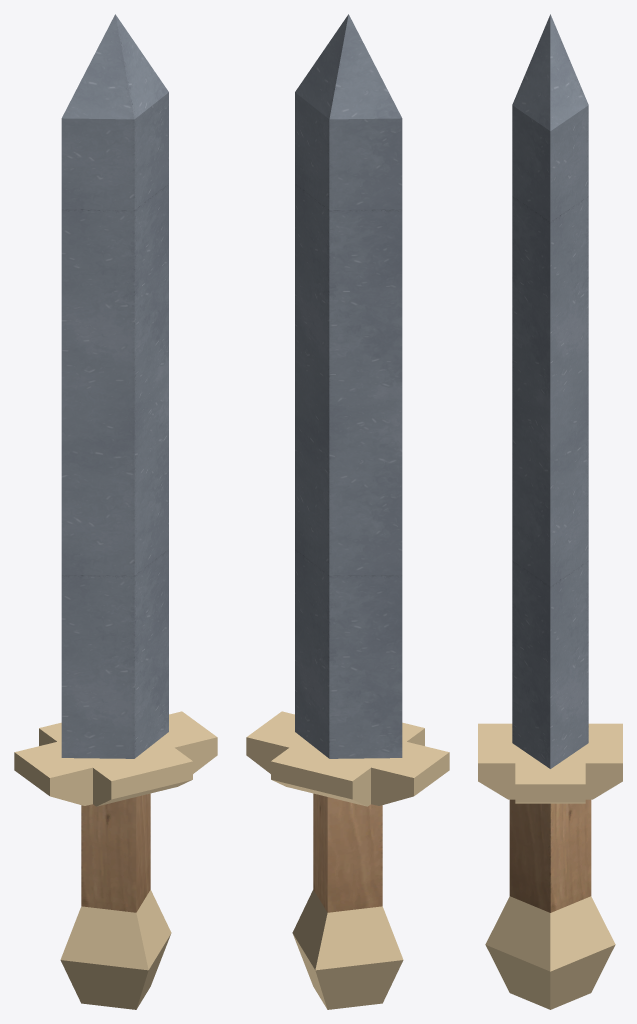
File: Sword_AF.fbx
3 views of the same model, side by side, from view 1: azimuth 30°, elevation 25°; view 2: azimuth 150°, elevation 25°; view 3: azimuth 270°, elevation 25° (orthographic).
Visible parts, largest first — view 1: blade_middle_half (×2), blade, hilt, guard_slant_cross; view 2: blade_middle_half (×2), blade, hilt, guard_slant_cross; view 3: blade_middle_half (×2), blade, hilt, guard_slant_cross.
Part boxes in pixels (left/top/right/bottom): blade_middle_half (×2): left=61, top=366, right=168, bottom=758; blade: left=61, top=14, right=168, bottom=393; hilt: left=60, top=793, right=171, bottom=1009; guard_slant_cross: left=14, top=711, right=217, bottom=806; blade_middle_half (×2): left=295, top=366, right=402, bottom=758; blade: left=295, top=14, right=402, bottom=393; hilt: left=292, top=793, right=403, bottom=1009; guard_slant_cross: left=246, top=711, right=449, bottom=806; blade_middle_half (×2): left=512, top=379, right=588, bottom=768; blade: left=512, top=14, right=588, bottom=404; hilt: left=485, top=799, right=615, bottom=1009; guard_slant_cross: left=478, top=723, right=622, bottom=803.
Bounding box in the file's own units: 4.8 × 26.85 × 3.6.
3 materials, 2 textured.
